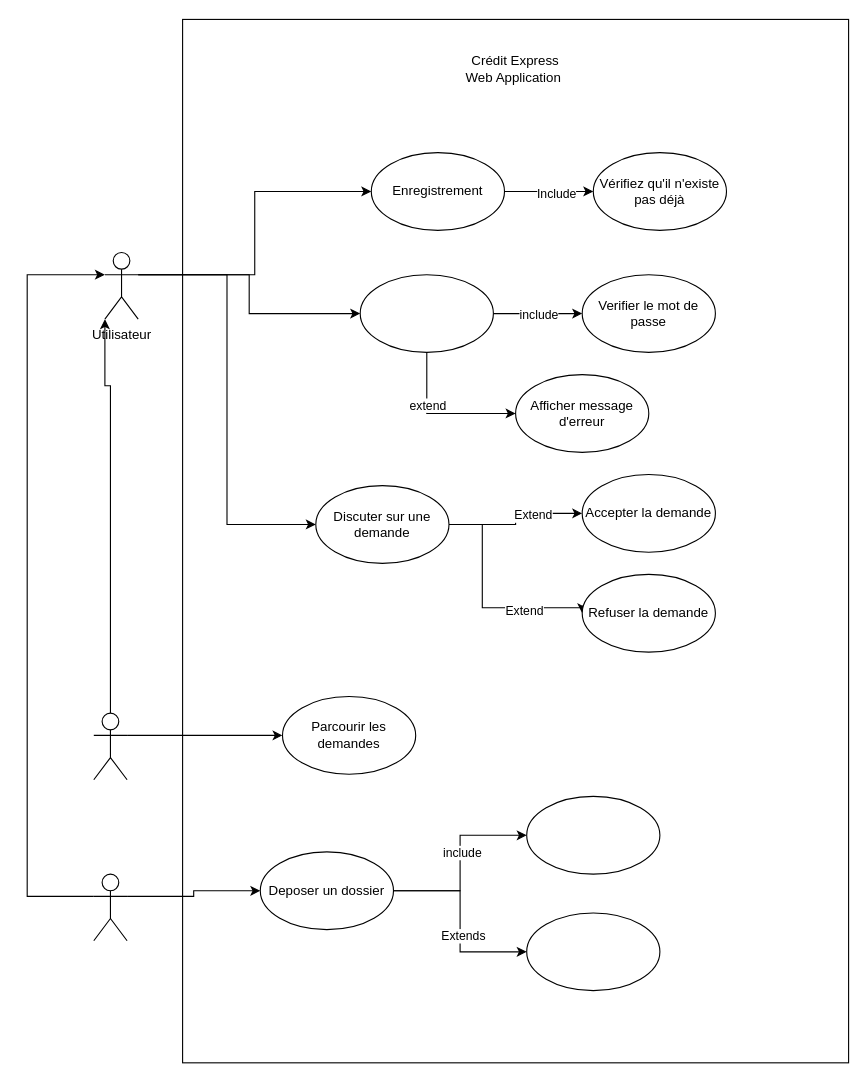
Image size: 868x1082. Some labels were removed from this diagram. The centre of each missing label's shape, as x and y in pixels:
"Banque" belongs at (x=110, y=746).
"Client" belongs at (x=110, y=907).
"Connexion" belongs at (x=426, y=313).
"Filtre les banques" belongs at (x=593, y=951).
"Vérifie qu'il ne le posède deja" belongs at (x=593, y=834).
